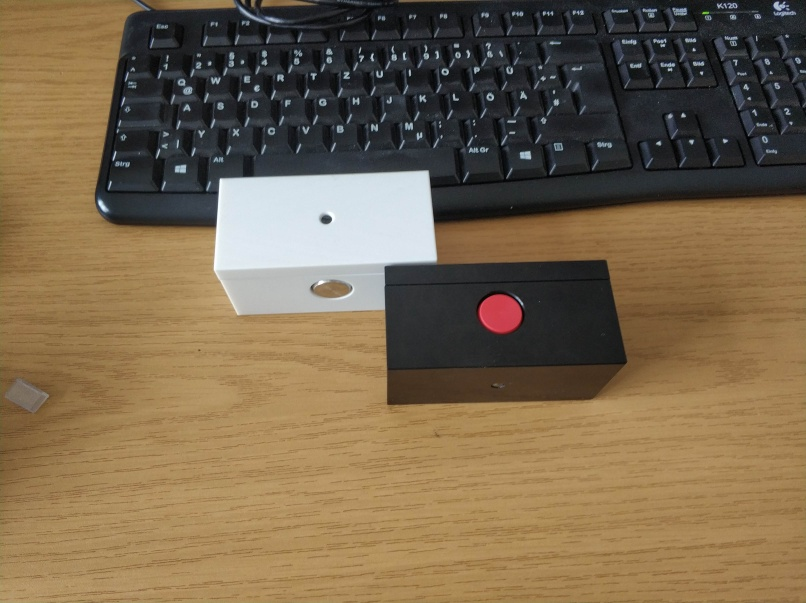black+black+red: (383, 256, 631, 408)
white+white+silver: (211, 166, 443, 318)
